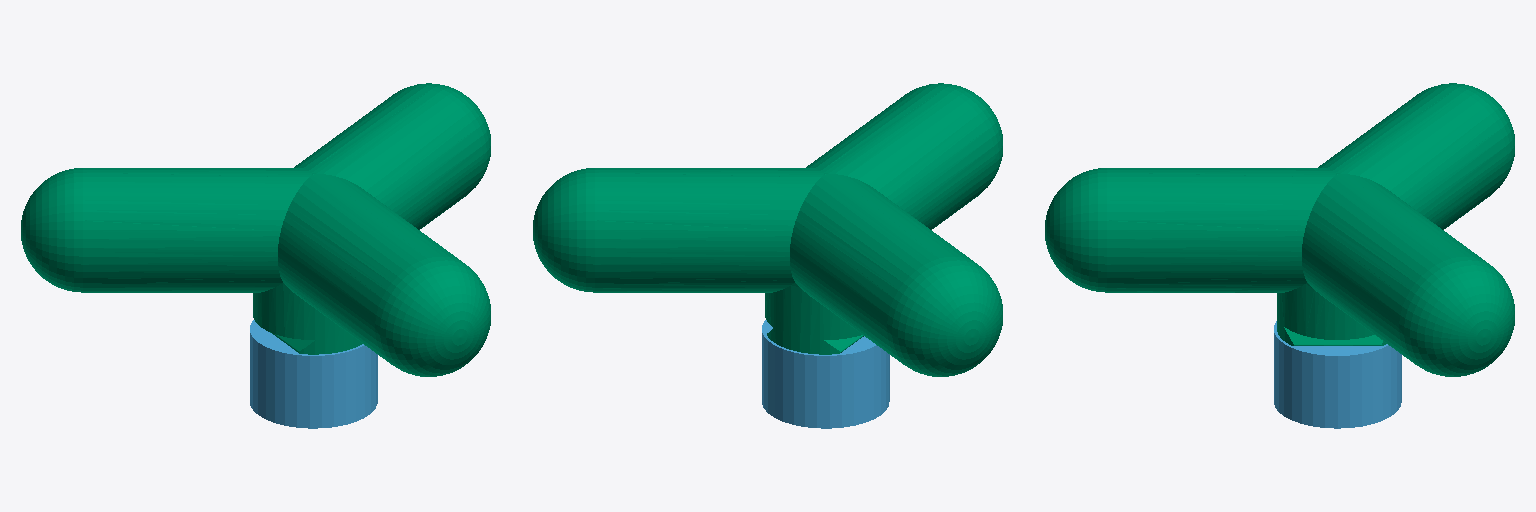
robot.urdf — tri_valve:
<?xml version="1.0" ?>
<robot name="tri_valve">
	<link name="world" />
	<link name="base">
		<inertial>
			<origin xyz="0 0 0" />
			<mass value="0.1" />
			<inertia ixx="1e-3" ixy="0.0" ixz="0.0" iyy="1e-3" iyz="0.0"
				izz="1e-3" />
		</inertial>
		<visual>
			<origin xyz="0 0 0.0125" />
			<geometry>
				<cylinder length="0.025" radius="0.02" />
			</geometry>
		</visual>
		<collision>
			<origin xyz="0 0 0.0125" />
			<geometry>
				<cylinder length="0.025" radius="0.02" />
			</geometry>
		</collision>
	</link>

	<link name="head">
		<inertial>
			<origin xyz="0 0 0" />
			<mass value="0.1" />
			<inertia ixx="1e-3" ixy="0.0" ixz="0.0" iyy="1e-3" iyz="0.0"
				izz="1e-3" />
		</inertial>
		<visual>
			<origin xyz="0 0 0" />
			<geometry>
				<mesh filename="meshes/valves/tri_valve.stl" />
			</geometry>
		</visual>
		<collision>
			<origin xyz="0 0 0" />
			<geometry>
				<mesh filename="meshes/valves/tri_valve.stl" />
			</geometry>
		</collision>
	</link>

	<joint name="fixed_palm" type="fixed">
		<origin rpy="0. 0. 0." xyz="0. 0. 0." />
		<parent link="world" />
		<child link="base" />
	</joint>

	<joint name="valve_joint" type="revolute">
		<origin rpy="0 0 0" xyz="0 0.0 0.025" />
		<parent link="base" />
		<child link="head" />
		<limit effort="100000" lower="-31" upper="31" velocity="1000" />
			<axis xyz="0 0 1" />
			<dynamics damping="160" friction="0.0" />
	</joint>

</robot>

--- Facts derived from the render (not from the file) ---
Views: 3 orthographic renders of the robot side by side, from view 1: azimuth 30°, elevation 25°; view 2: azimuth 150°, elevation 25°; view 3: azimuth 270°, elevation 25°.
Model tri_valve with 3 links and 2 joints (1 revolute, 1 fixed), rooted at world, posed all joints at 0.
Visible links, largest first — view 1: head, base; view 2: head, base; view 3: head, base.
Boxes of the visible links, x1,y1,x2,y2 form: head: (21,83,490,376); base: (250,320,377,428); head: (533,83,1002,376); base: (762,320,889,428); head: (1045,83,1514,376); base: (1274,321,1401,428).
Size in the robot's own frame: 0.1636 by 0.147 by 0.0785 metres.
Meshes: 1 distinct files referenced, 1 mesh visuals loaded (1 binary STL).
